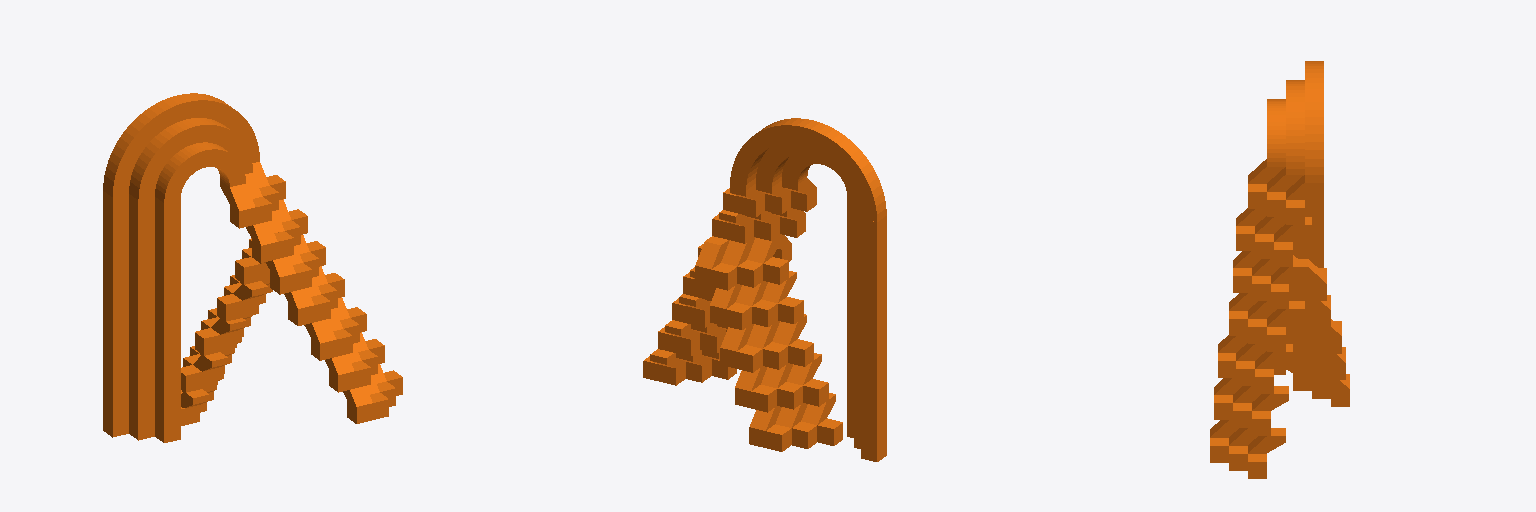
Rendered from puerta.obj.
3 renders of one model, left to right at view 1: azimuth 30°, elevation 25°; view 2: azimuth 150°, elevation 25°; view 3: azimuth 270°, elevation 25°, orthographic.
Visible parts, largest first — view 1: obj_0_puerta; view 2: obj_0_puerta; view 3: obj_0_puerta.
Part boxes in pixels (x1,y1,x2,y2): obj_0_puerta: (103, 93, 402, 442); obj_0_puerta: (643, 118, 886, 461); obj_0_puerta: (1210, 61, 1349, 478).
Size of the model in its own units: 80 by 92.5 by 37.